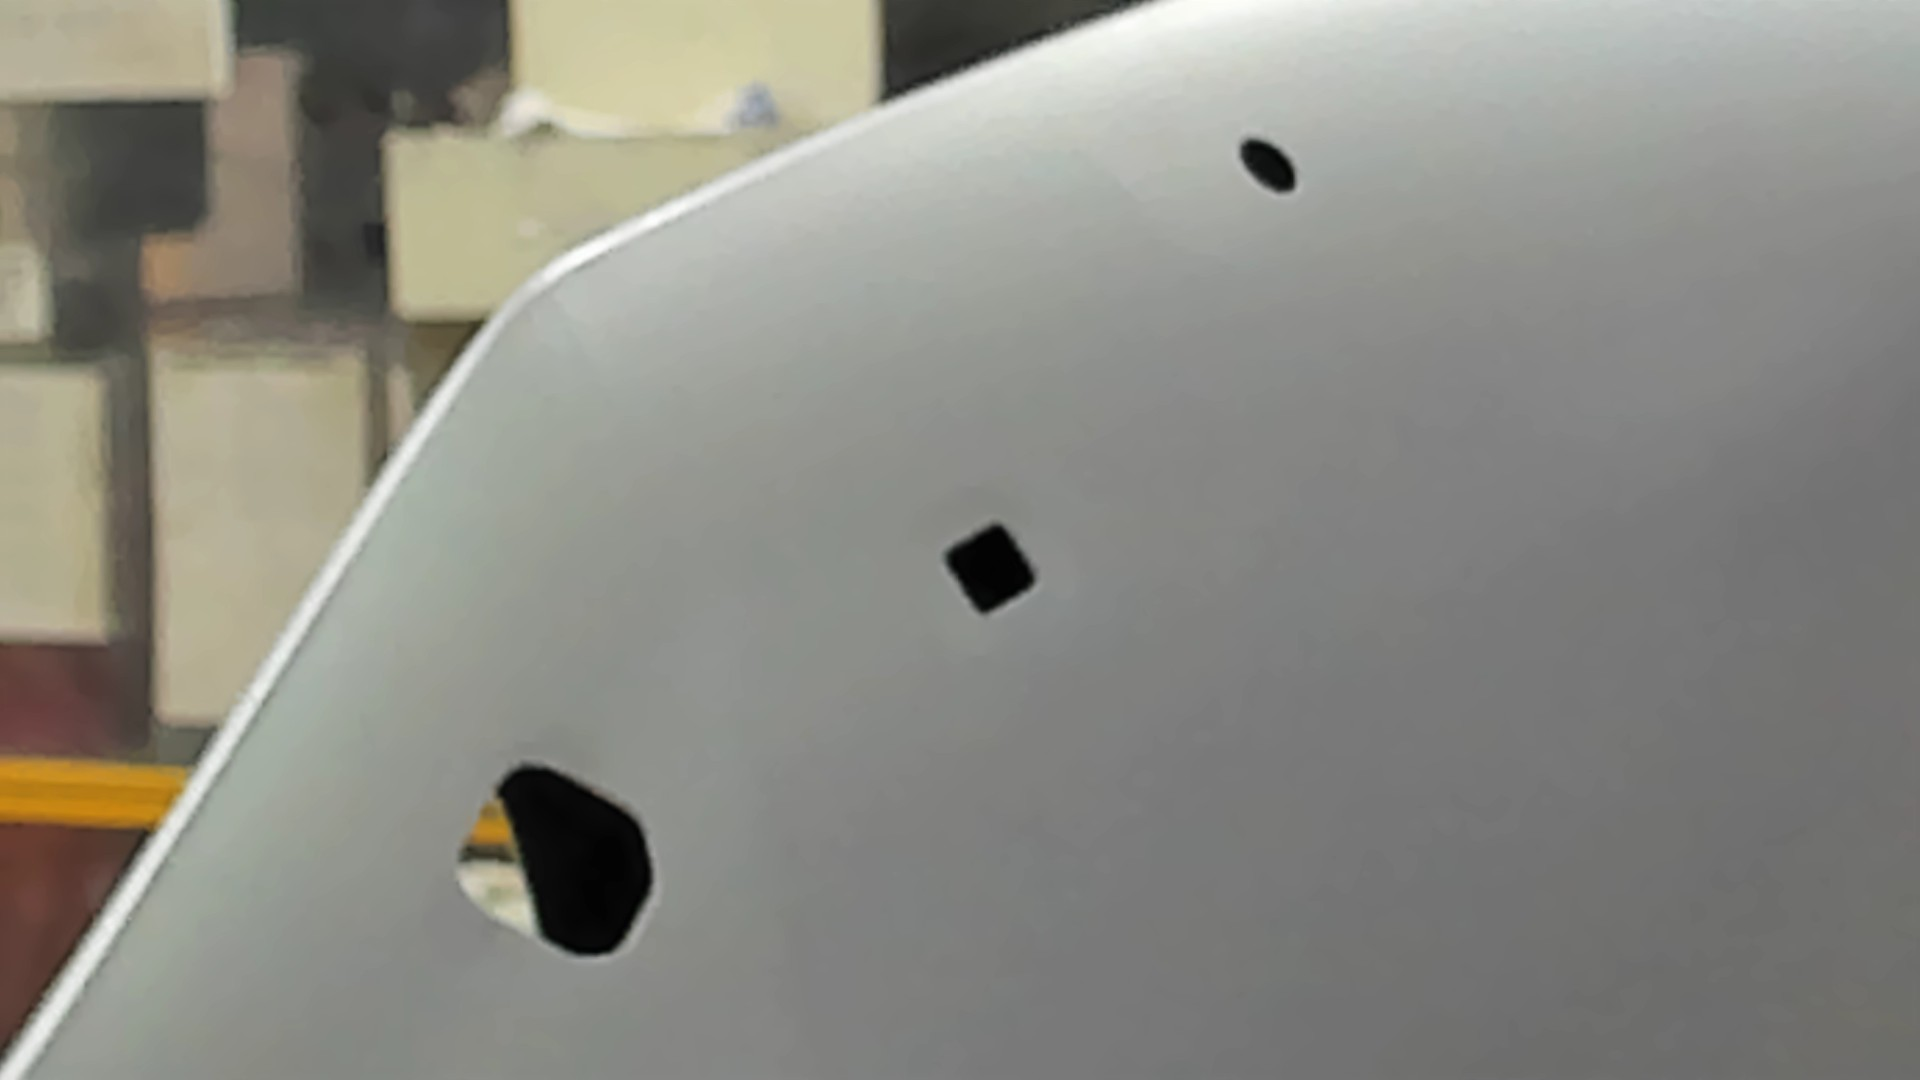chico: (1234, 129, 1302, 196)
grande: (452, 761, 659, 965)
mediano: (934, 520, 1044, 620)
